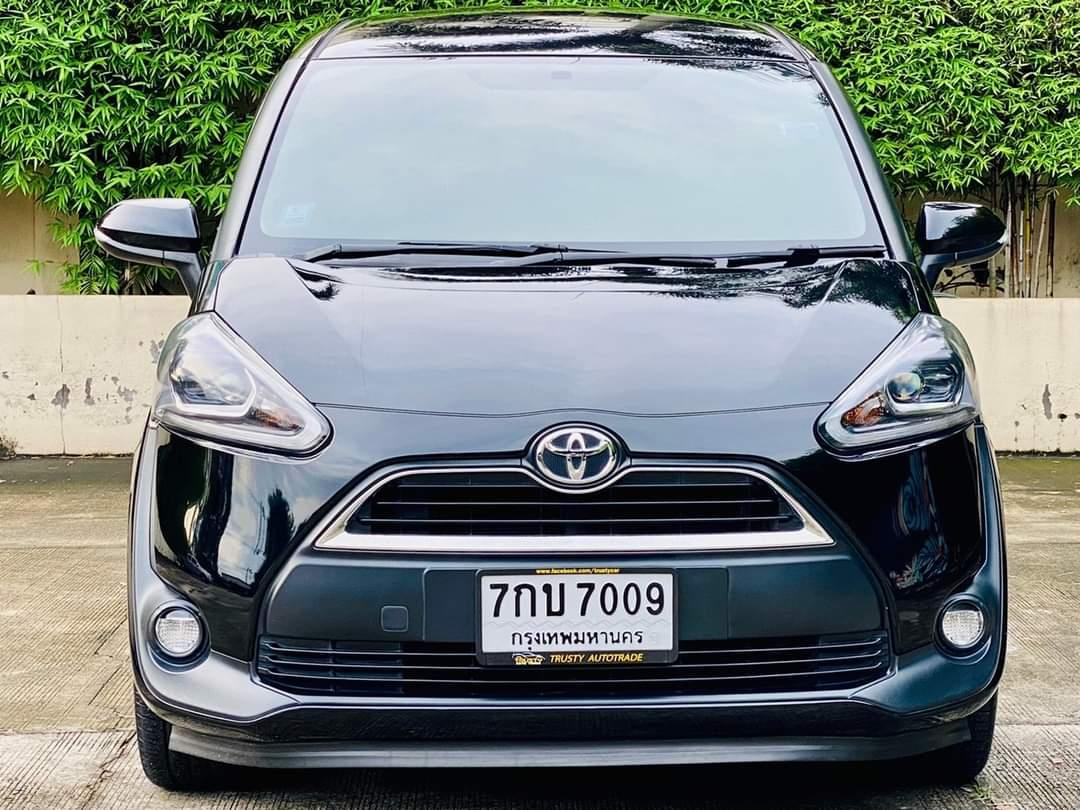license-plate: (474, 563, 681, 672)
